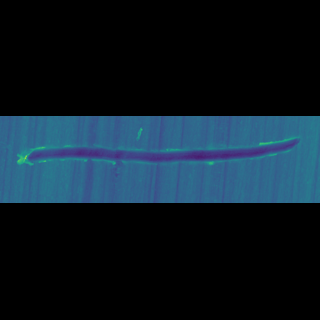Loch: (13, 153, 303, 163), (131, 151, 144, 155)
